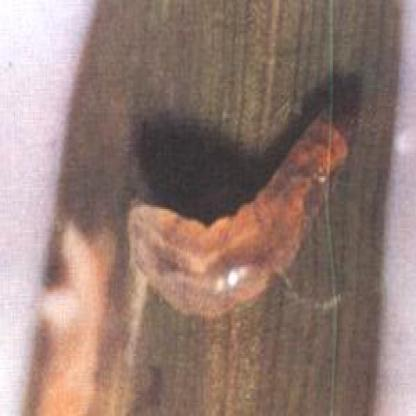whorl-maggot: (128, 109, 357, 326)
